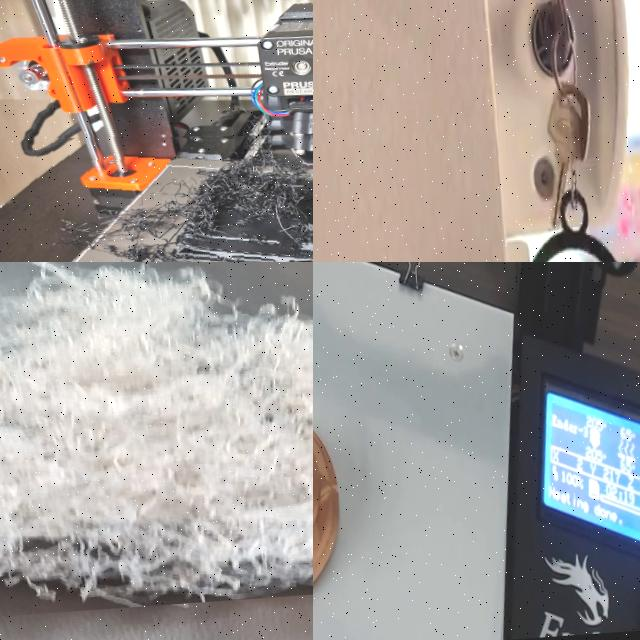spaghetti: (0, 262, 313, 606), (26, 96, 313, 262)
